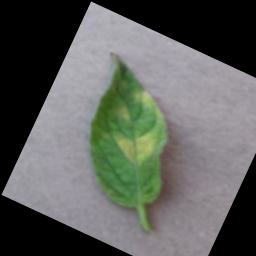Leaf_Mold: (108, 119, 163, 171), (129, 84, 171, 118), (115, 103, 134, 122)
